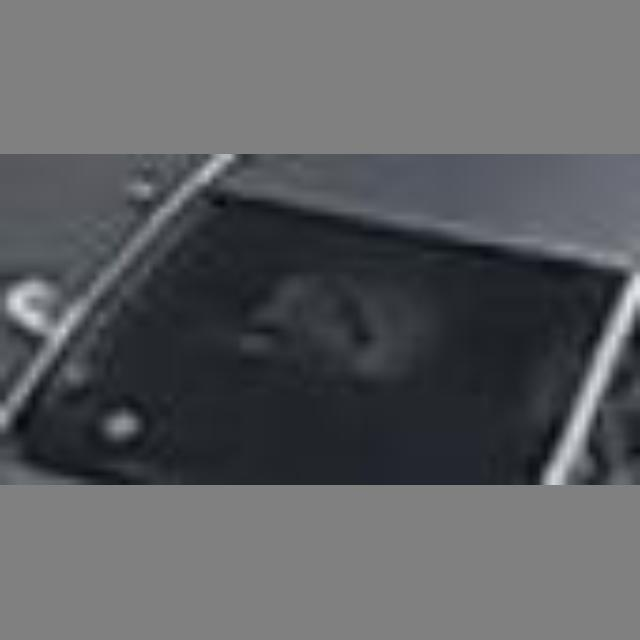pakai: (203, 214, 452, 402)
